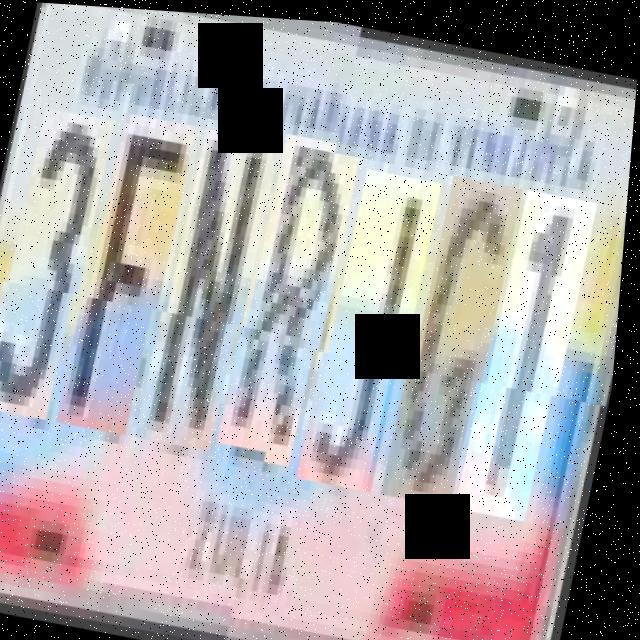1: (468, 180, 601, 516)
3: (0, 114, 116, 432)
F: (66, 119, 197, 446)
G: (394, 167, 526, 504)
J: (310, 161, 444, 489)
N: (146, 133, 281, 461)
R: (227, 137, 363, 465)
